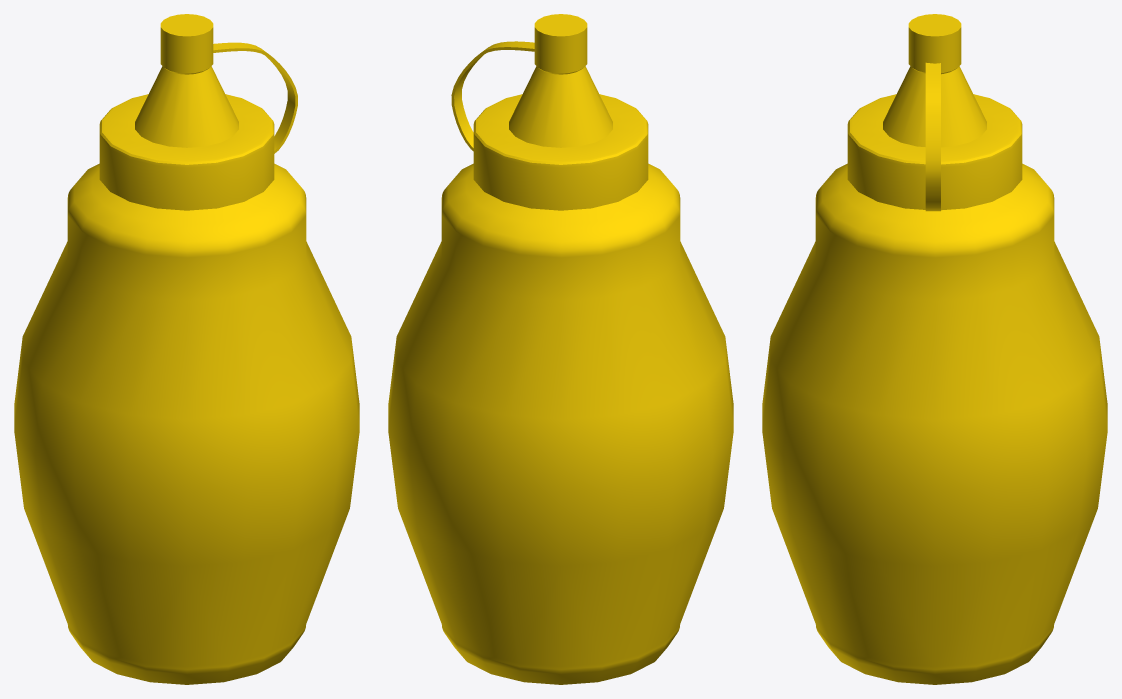
File: Mustard.FBX
3 renders of one model, left to right at view 1: azimuth 30°, elevation 25°; view 2: azimuth 150°, elevation 25°; view 3: azimuth 270°, elevation 25°, orthographic.
Visible parts, largest first — view 1: Mustard; view 2: Mustard; view 3: Mustard.
Part boxes in pixels (box(x1,y1,x2,y2)): Mustard: box(14, 14, 359, 684); Mustard: box(388, 14, 733, 684); Mustard: box(762, 14, 1107, 684).
Size of the model in its own units: 8.23 by 15.89 by 8.1.
1 material, 1 textured.
